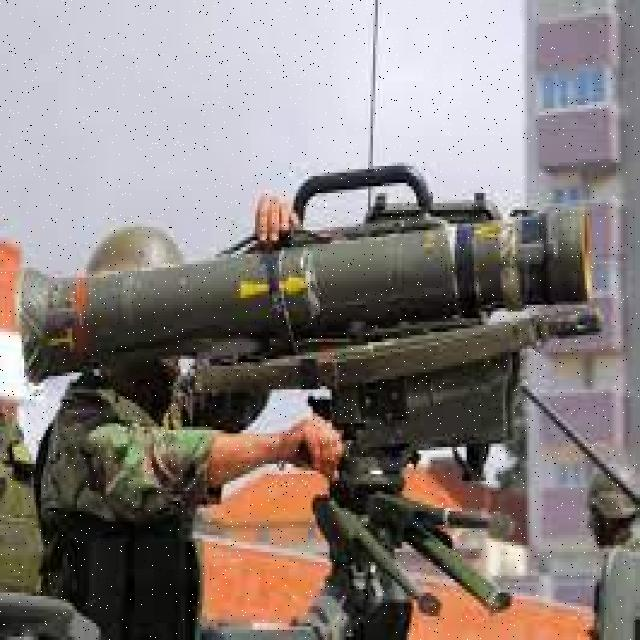bazooka: (17, 145, 601, 475)
